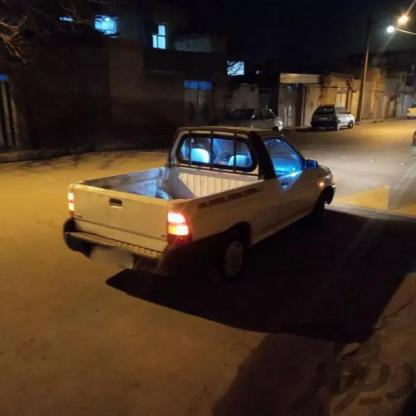Car: (79, 132, 330, 310), (310, 108, 374, 152)
